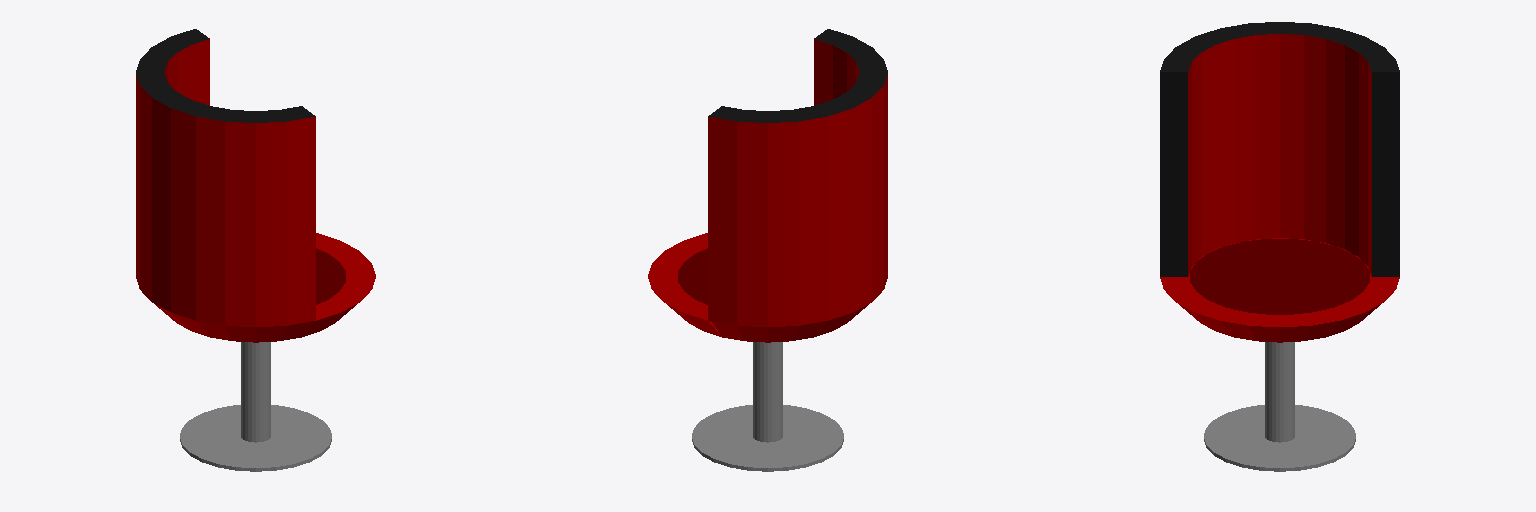
The model's file is chair.obj.
The picture shows the model from 3 angles: view 1: azimuth 30°, elevation 25°; view 2: azimuth 150°, elevation 25°; view 3: azimuth 270°, elevation 25°; orthographic projection.
Visible parts, largest first — view 1: Mesh4 Group4 Model, Mesh7 Model, Mesh1 Group1 Model, Mesh3 Group3 Model, Mesh6 Group5 Model, Mesh5 Group4 Model, Mesh2 Group2 Model; view 2: Mesh7 Model, Mesh4 Group4 Model, Mesh1 Group1 Model, Mesh3 Group3 Model, Mesh6 Group5 Model, Mesh5 Group4 Model, Mesh2 Group2 Model; view 3: Mesh5 Group4 Model, Mesh3 Group3 Model, Mesh2 Group2 Model, Mesh1 Group1 Model, Mesh6 Group5 Model.
Boxes of the visible parts, x1=… form: Mesh4 Group4 Model: x1=136, y1=75, x2=255, y2=340; Mesh7 Model: x1=225, y1=117, x2=315, y2=342; Mesh1 Group1 Model: x1=180, y1=342, x2=331, y2=471; Mesh3 Group3 Model: x1=136, y1=29, x2=315, y2=122; Mesh6 Group5 Model: x1=303, y1=233, x2=375, y2=336; Mesh5 Group4 Model: x1=164, y1=39, x2=209, y2=105; Mesh2 Group2 Model: x1=316, y1=248, x2=345, y2=304; Mesh7 Model: x1=708, y1=117, x2=798, y2=342; Mesh4 Group4 Model: x1=792, y1=75, x2=887, y2=340; Mesh1 Group1 Model: x1=692, y1=342, x2=843, y2=471; Mesh3 Group3 Model: x1=708, y1=29, x2=887, y2=122; Mesh6 Group5 Model: x1=648, y1=233, x2=743, y2=340; Mesh5 Group4 Model: x1=814, y1=39, x2=859, y2=105; Mesh2 Group2 Model: x1=678, y1=248, x2=707, y2=304; Mesh5 Group4 Model: x1=1188, y1=34, x2=1371, y2=276; Mesh3 Group3 Model: x1=1160, y1=22, x2=1399, y2=276; Mesh2 Group2 Model: x1=1190, y1=239, x2=1369, y2=314; Mesh1 Group1 Model: x1=1204, y1=342, x2=1355, y2=471; Mesh6 Group5 Model: x1=1160, y1=277, x2=1399, y2=342.
Size of the model in its own units: 0.8 by 1.35 by 0.8.